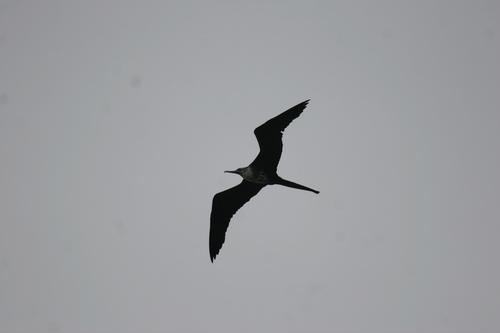bird: (204, 102, 323, 263)
